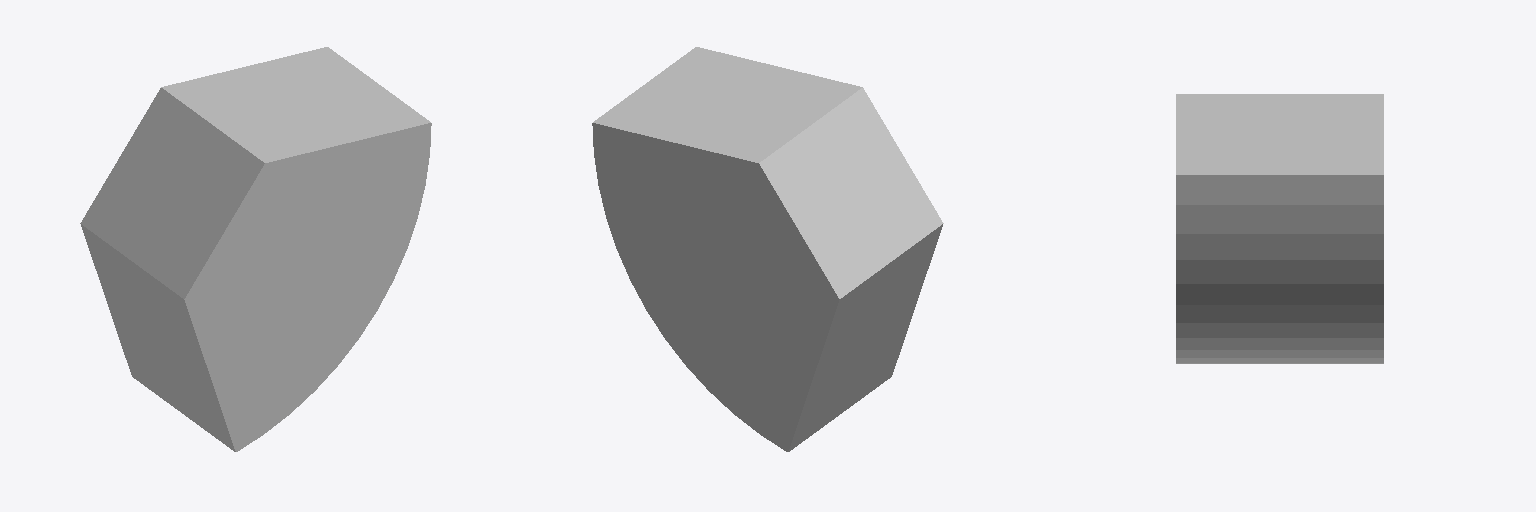
Rendered from round_pentagon_hole_2.obj.
3 views of the same model, side by side, from view 1: azimuth 30°, elevation 25°; view 2: azimuth 150°, elevation 25°; view 3: azimuth 270°, elevation 25° (orthographic).
Parts seen in each view (by area): view 1: Body118; view 2: Body118; view 3: Body118.
Part boxes in pixels (x1,y1,x2,y2): Body118: (80,47,431,451); Body118: (592,47,943,451); Body118: (1176,94,1383,363).
Size of the model in its own units: 0.0549 by 0.0599 by 0.04.